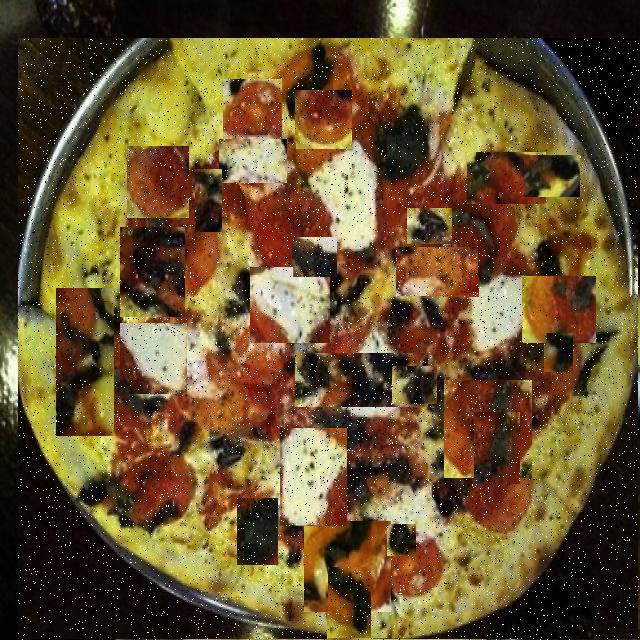Basil: (236, 142, 348, 222), (58, 288, 116, 436), (296, 353, 428, 407), (121, 227, 185, 317), (474, 412, 520, 484), (328, 568, 371, 640), (238, 498, 278, 565), (166, 399, 202, 470), (524, 155, 580, 197), (293, 237, 337, 277), (392, 366, 437, 404), (196, 170, 222, 233), (408, 208, 452, 244), (545, 333, 573, 372), (347, 302, 372, 345), (387, 524, 416, 556)
Cheese: (281, 428, 347, 526), (444, 277, 525, 353), (251, 267, 330, 343), (121, 323, 187, 394), (220, 139, 287, 183)
Pizza: (19, 38, 639, 640)
Tomato: (445, 380, 532, 478), (305, 521, 391, 612), (522, 276, 596, 343), (128, 146, 189, 218), (398, 248, 480, 298), (468, 152, 546, 204), (224, 79, 282, 139), (296, 90, 352, 149)
